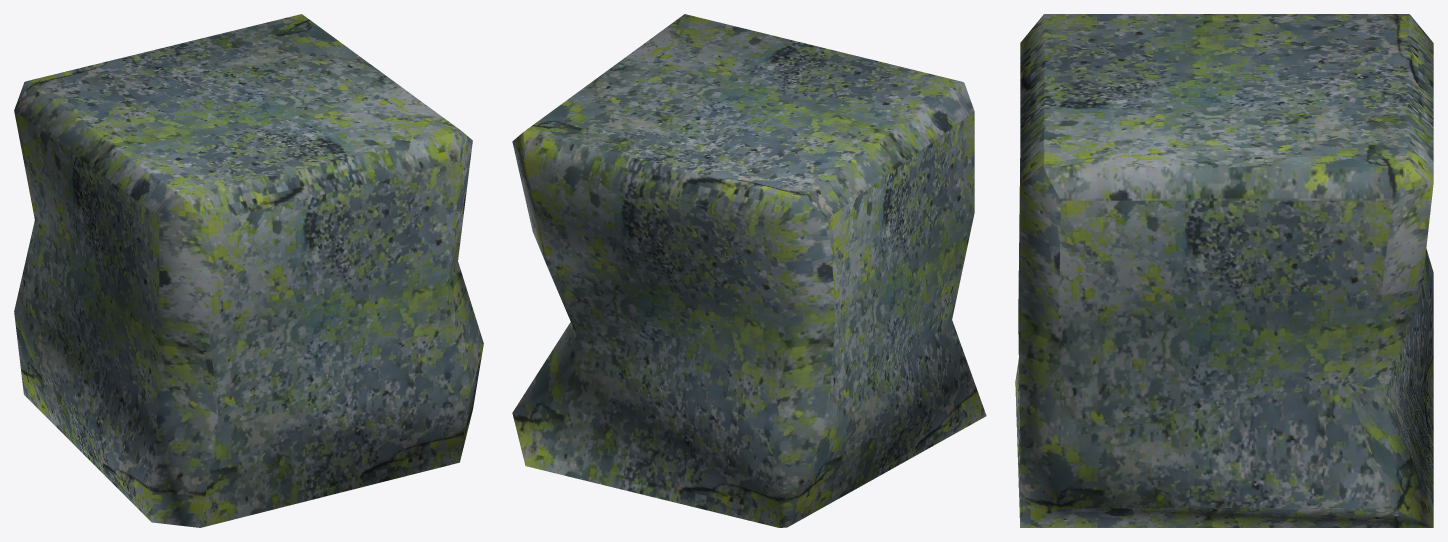
The model's file is INST_MIRK_PUSHBLOCK.fbx.
3 views of the same model, side by side, from view 1: azimuth 30°, elevation 25°; view 2: azimuth 150°, elevation 25°; view 3: azimuth 270°, elevation 25° (orthographic). The views are drawn at different scales.
Visible parts, largest first — view 1: INST_MIRK_PUSHBLOCK; view 2: INST_MIRK_PUSHBLOCK; view 3: INST_MIRK_PUSHBLOCK.
Boxes of the visible parts, left/top/right/bottom form: INST_MIRK_PUSHBLOCK: left=14, top=14, right=483, bottom=527; INST_MIRK_PUSHBLOCK: left=512, top=14, right=986, bottom=527; INST_MIRK_PUSHBLOCK: left=1015, top=14, right=1433, bottom=527.
Bounding box in the file's own units: 10665 × 9789 × 10116.
Materials: 1 (1 with a texture image).
